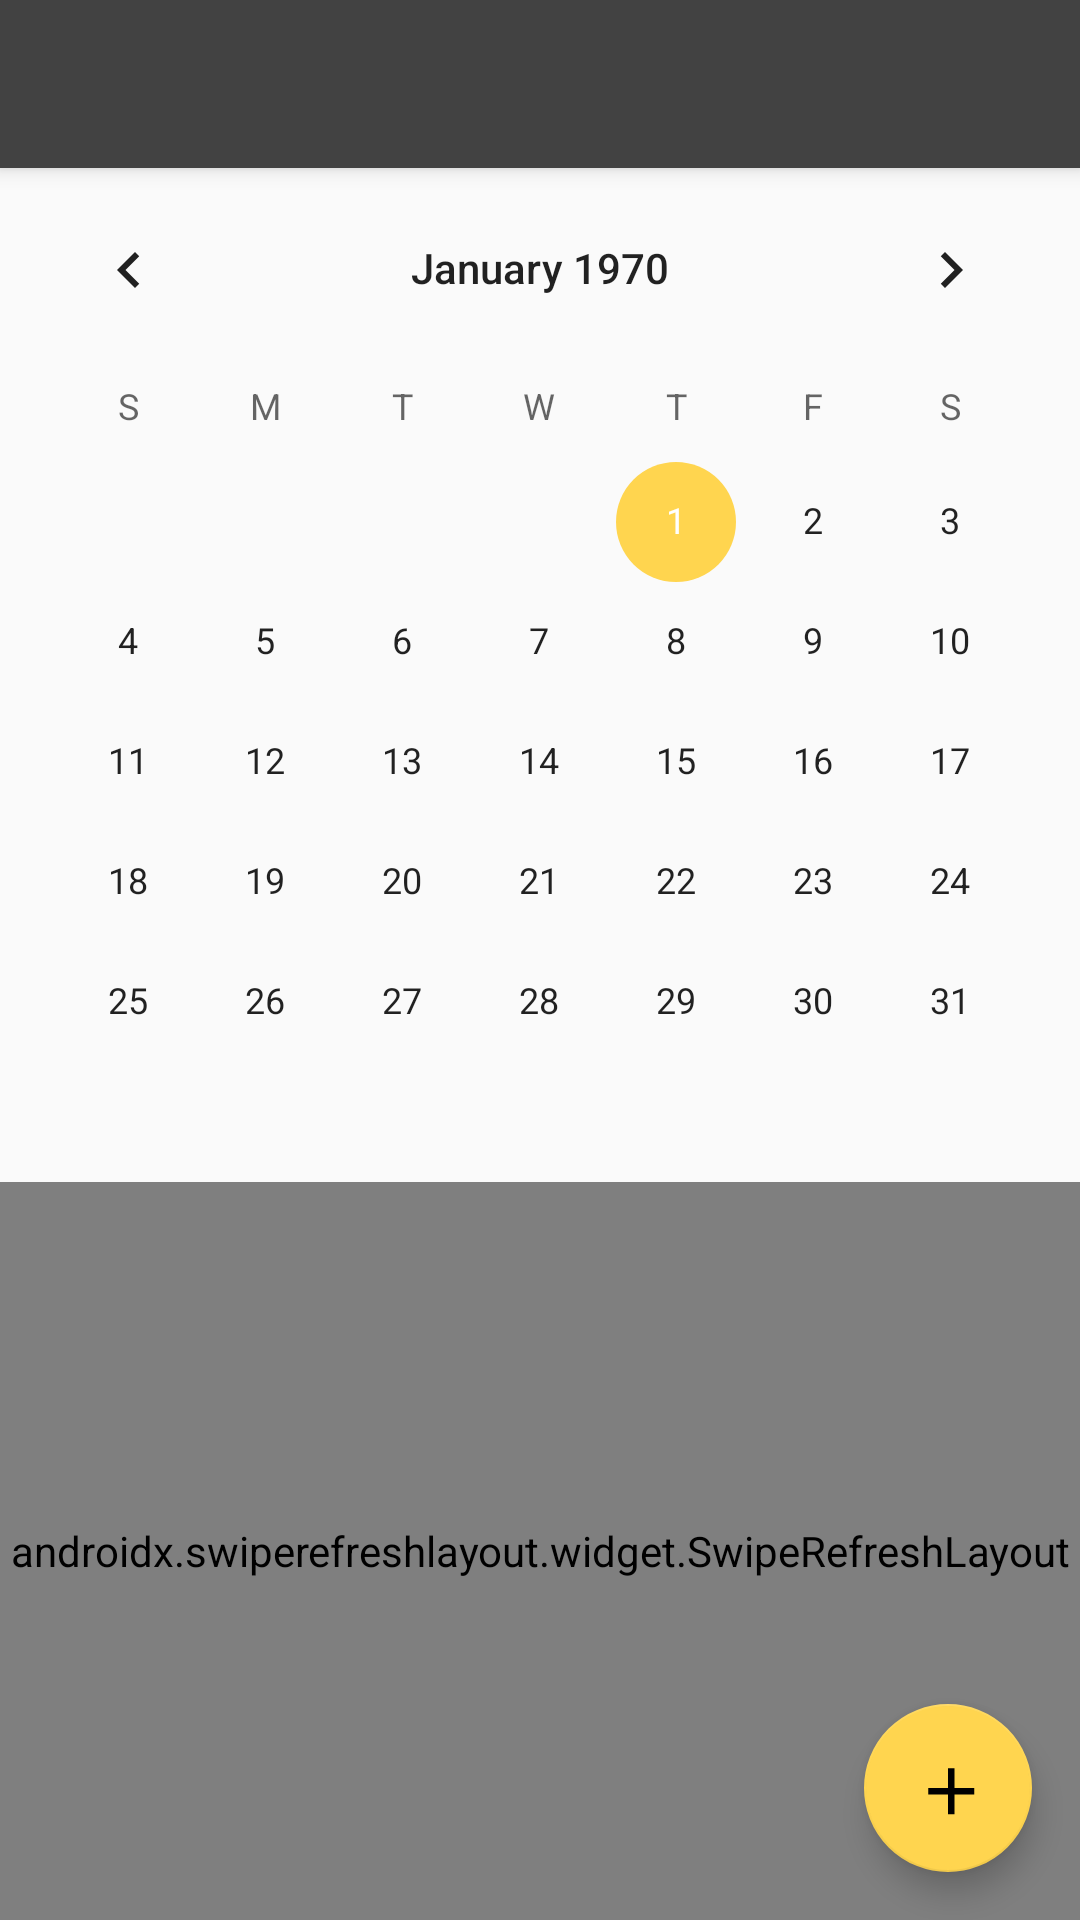

Screen size 1080x1920. Icon name, then its center in pixels as point (x, y):
add 24p: point (948, 1788)
